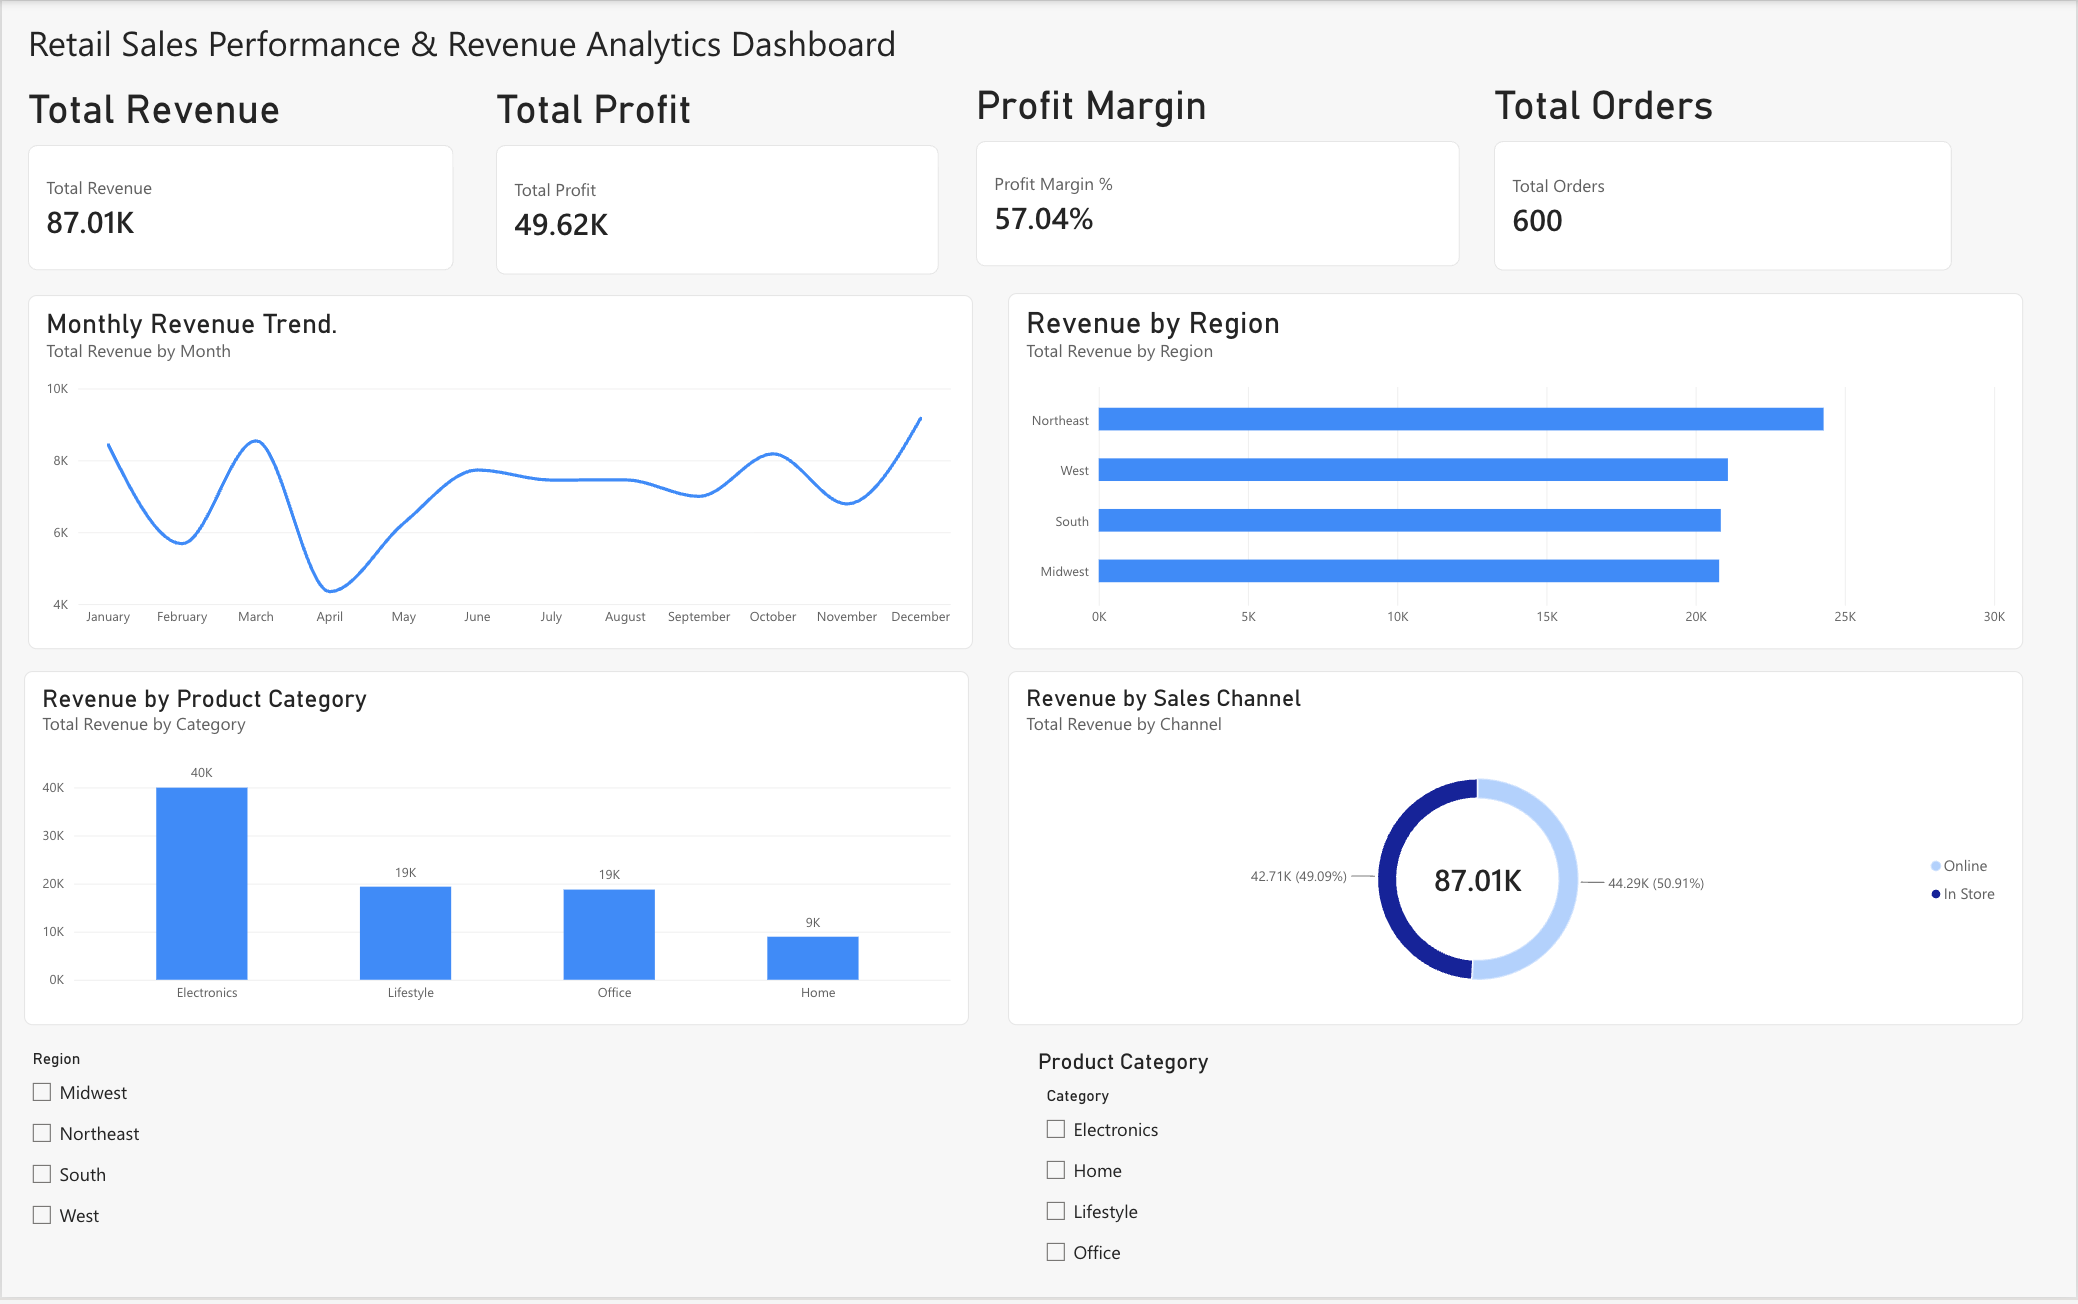

The dashboard page shown, as its layout file describes it:
{"tool":"powerbi","page":{"name":"Page 1","canvas":[1920,1200],"ordinal":0},"visuals":[{"type":"cardVisual","title":"Total Revenue","fields":{"Data":["Products.Total Revenue"]},"box":[24,84,394,166],"z":0},{"type":"cardVisual","title":"Total Profit","fields":{"Data":["Products.Total Profit"]},"box":[458,84,410,170],"z":1},{"type":"cardVisual","title":"Profit Margin","fields":{"Data":["Products.Profit Margin %"]},"box":[902,80,448,166],"z":2},{"type":"cardVisual","title":"Total Orders","fields":{"Data":["Products.Total Orders"]},"box":[1382,80,424,170],"z":3},{"type":"lineChart","title":"Monthly Revenue Trend.","fields":{"Category":["Sales.OrderDate.Variation.Date Hierarchy.Year","Sales.OrderDate.Variation.Date Hierarchy.Month"],"Y":["Products.Total Revenue"]},"box":[24,272,874.9,328.1],"z":4},{"type":"clusteredBarChart","title":"Revenue by Region","fields":{"Category":["Regions.Region"],"Y":["Products.Total Revenue"]},"box":[932,270,940,330],"z":5},{"type":"clusteredColumnChart","title":"Revenue by Product Category","fields":{"Category":["Products.Category"],"Y":["Products.Total Revenue"]},"box":[20,620,875,328],"z":6},{"type":"donutChart","title":"Revenue by Sales Channel","fields":{"Category":["Sales.Channel"],"Y":["Products.Total Revenue"]},"box":[932,620,940,328],"z":7},{"type":"slicer","fields":{"Values":["Regions.Region"]},"box":[20,972,888,170],"z":8},{"type":"slicer","title":"Product Category","fields":{"Values":["Products.Category"]},"box":[960,972,940,208],"z":9},{"type":"textbox","box":[20,0,876,76],"z":10},{"type":"textbox","box":[24,16,1082,60],"z":11}]}

Visuals, with their boxes in screenshot pixels (x1, y1, x2, y2), scaled from the page's 1920x1200 canvas onto the 2078x1304 screenshot:
"Total Revenue" cardVisual: pyautogui.locateOnScreen(26, 91, 452, 272)
"Total Profit" cardVisual: pyautogui.locateOnScreen(496, 91, 939, 276)
"Profit Margin" cardVisual: pyautogui.locateOnScreen(976, 87, 1461, 267)
"Total Orders" cardVisual: pyautogui.locateOnScreen(1496, 87, 1955, 272)
"Monthly Revenue Trend." lineChart: pyautogui.locateOnScreen(26, 296, 973, 652)
"Revenue by Region" clusteredBarChart: pyautogui.locateOnScreen(1009, 293, 2026, 652)
"Revenue by Product Category" clusteredColumnChart: pyautogui.locateOnScreen(22, 674, 969, 1030)
"Revenue by Sales Channel" donutChart: pyautogui.locateOnScreen(1009, 674, 2026, 1030)
slicer - Regions.Region: pyautogui.locateOnScreen(22, 1056, 983, 1241)
"Product Category" slicer: pyautogui.locateOnScreen(1039, 1056, 2056, 1282)
textbox: pyautogui.locateOnScreen(22, 0, 970, 83)
textbox: pyautogui.locateOnScreen(26, 17, 1197, 83)
